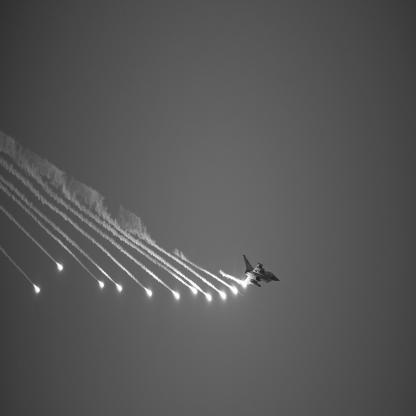EF2000: (244, 256, 281, 288)
